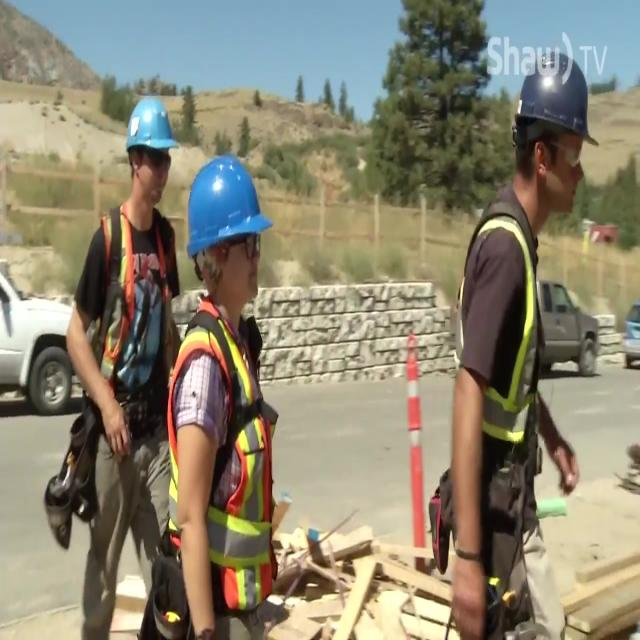Reflective-Jacket: (158, 306, 290, 622), (440, 194, 560, 522), (63, 197, 183, 483)
Safety-Helmet: (502, 31, 607, 165), (179, 142, 281, 270), (117, 82, 183, 172)
